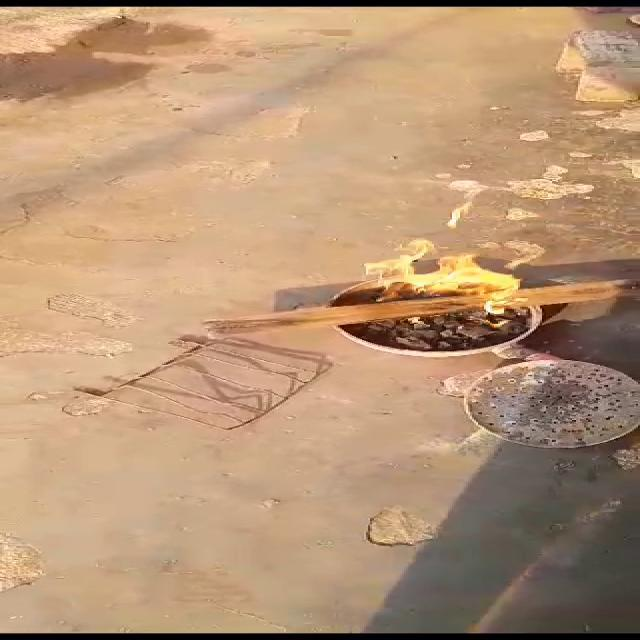Fire: (352, 229, 534, 333)
